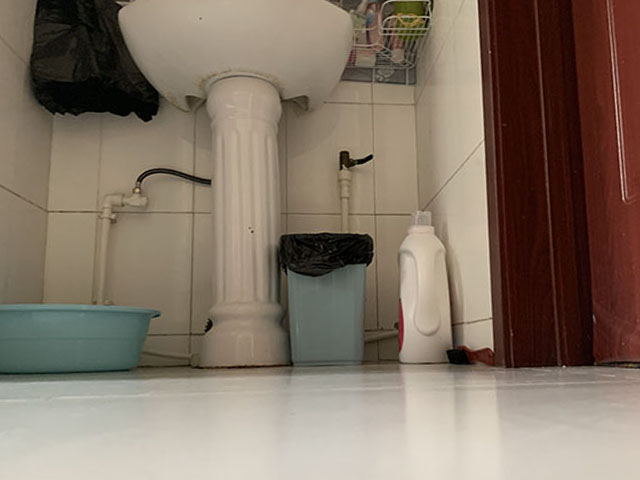trashcan: (277, 230, 376, 368)
